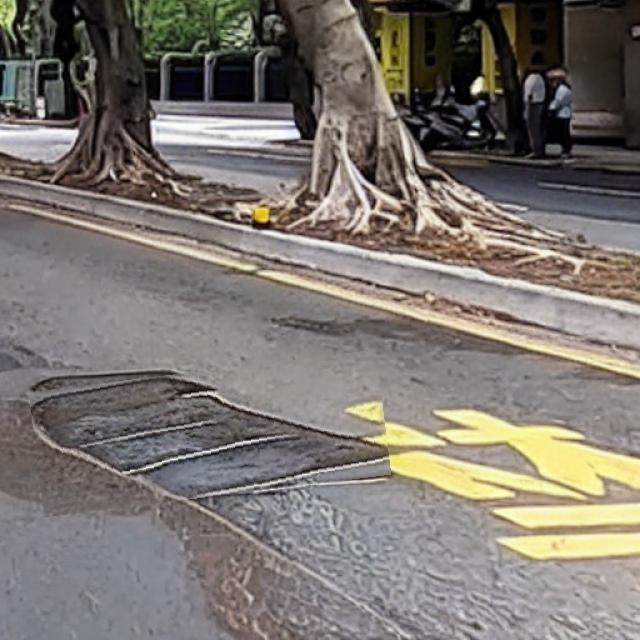puddle: (33, 361, 389, 508)
